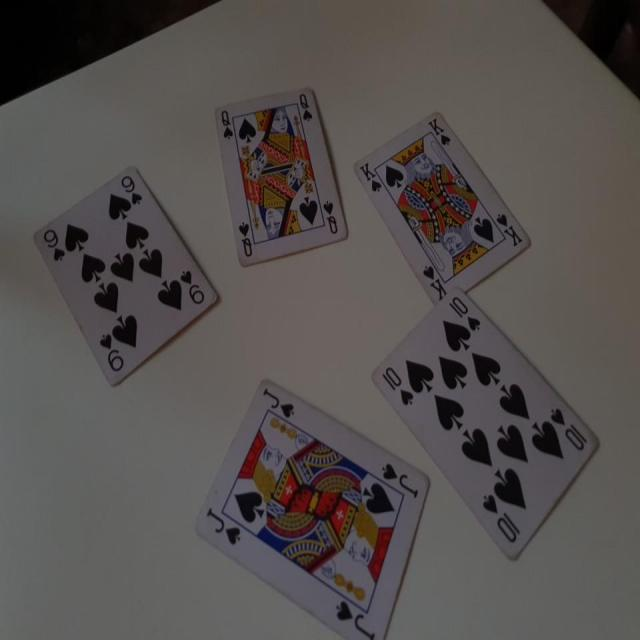10 Spades: (368, 282, 605, 573)
9 Spades: (27, 157, 226, 400)
J Spades: (197, 375, 424, 640)
K Spades: (351, 108, 533, 311)
Q Spades: (213, 79, 353, 290)
